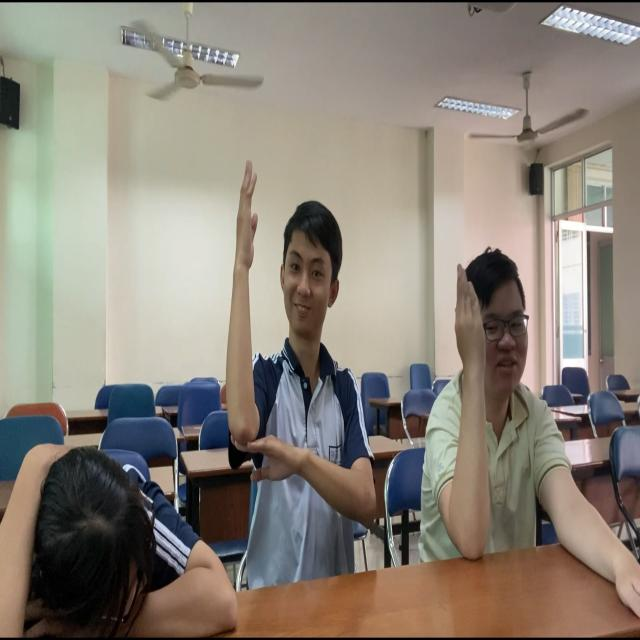raise_hand: (222, 155, 385, 582), (414, 248, 580, 560)
sleep: (1, 441, 215, 640)
